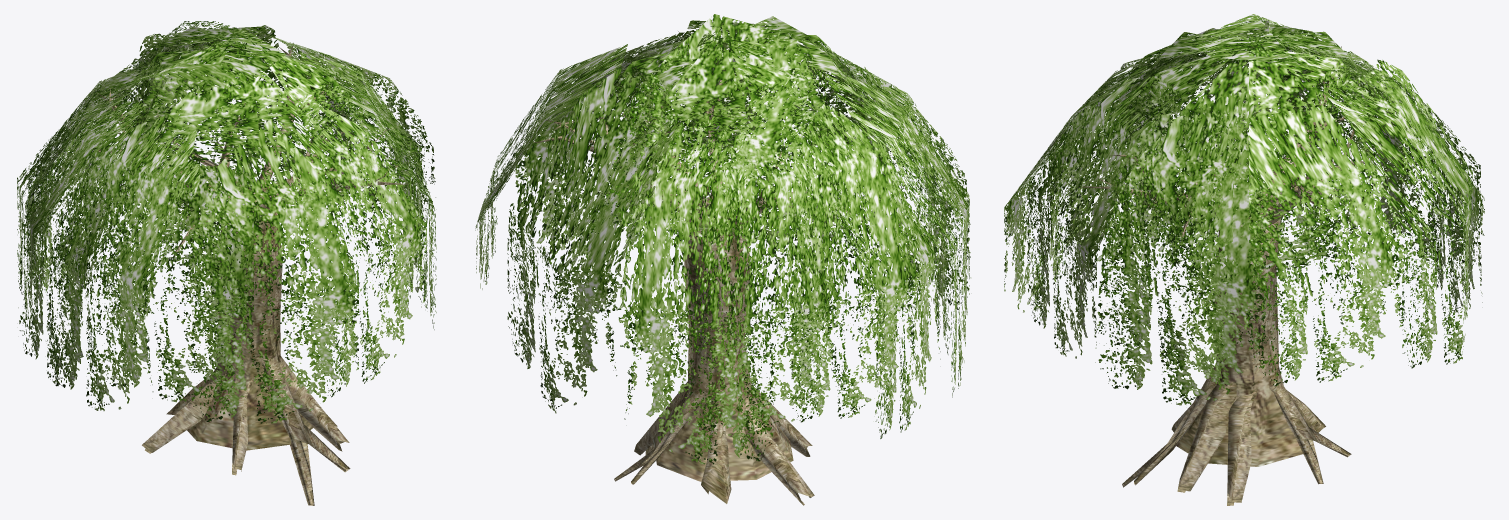
The model's file is sauce_a.glb.
3 views of the same model, side by side, from view 1: azimuth 30°, elevation 25°; view 2: azimuth 150°, elevation 25°; view 3: azimuth 270°, elevation 25° (orthographic). The views are drawn at different scales.
Visible parts, largest first — view 1: Modelo; view 2: Modelo; view 3: Modelo.
Boxes of the visible parts, x1,y1,x2,y2 form: Modelo: (17, 21, 436, 505); Modelo: (475, 14, 970, 505); Modelo: (1004, 14, 1484, 505).
Bounding box in the file's own units: 8.95 × 8.98 × 8.96.
Materials: 1 (1 with a texture image).
